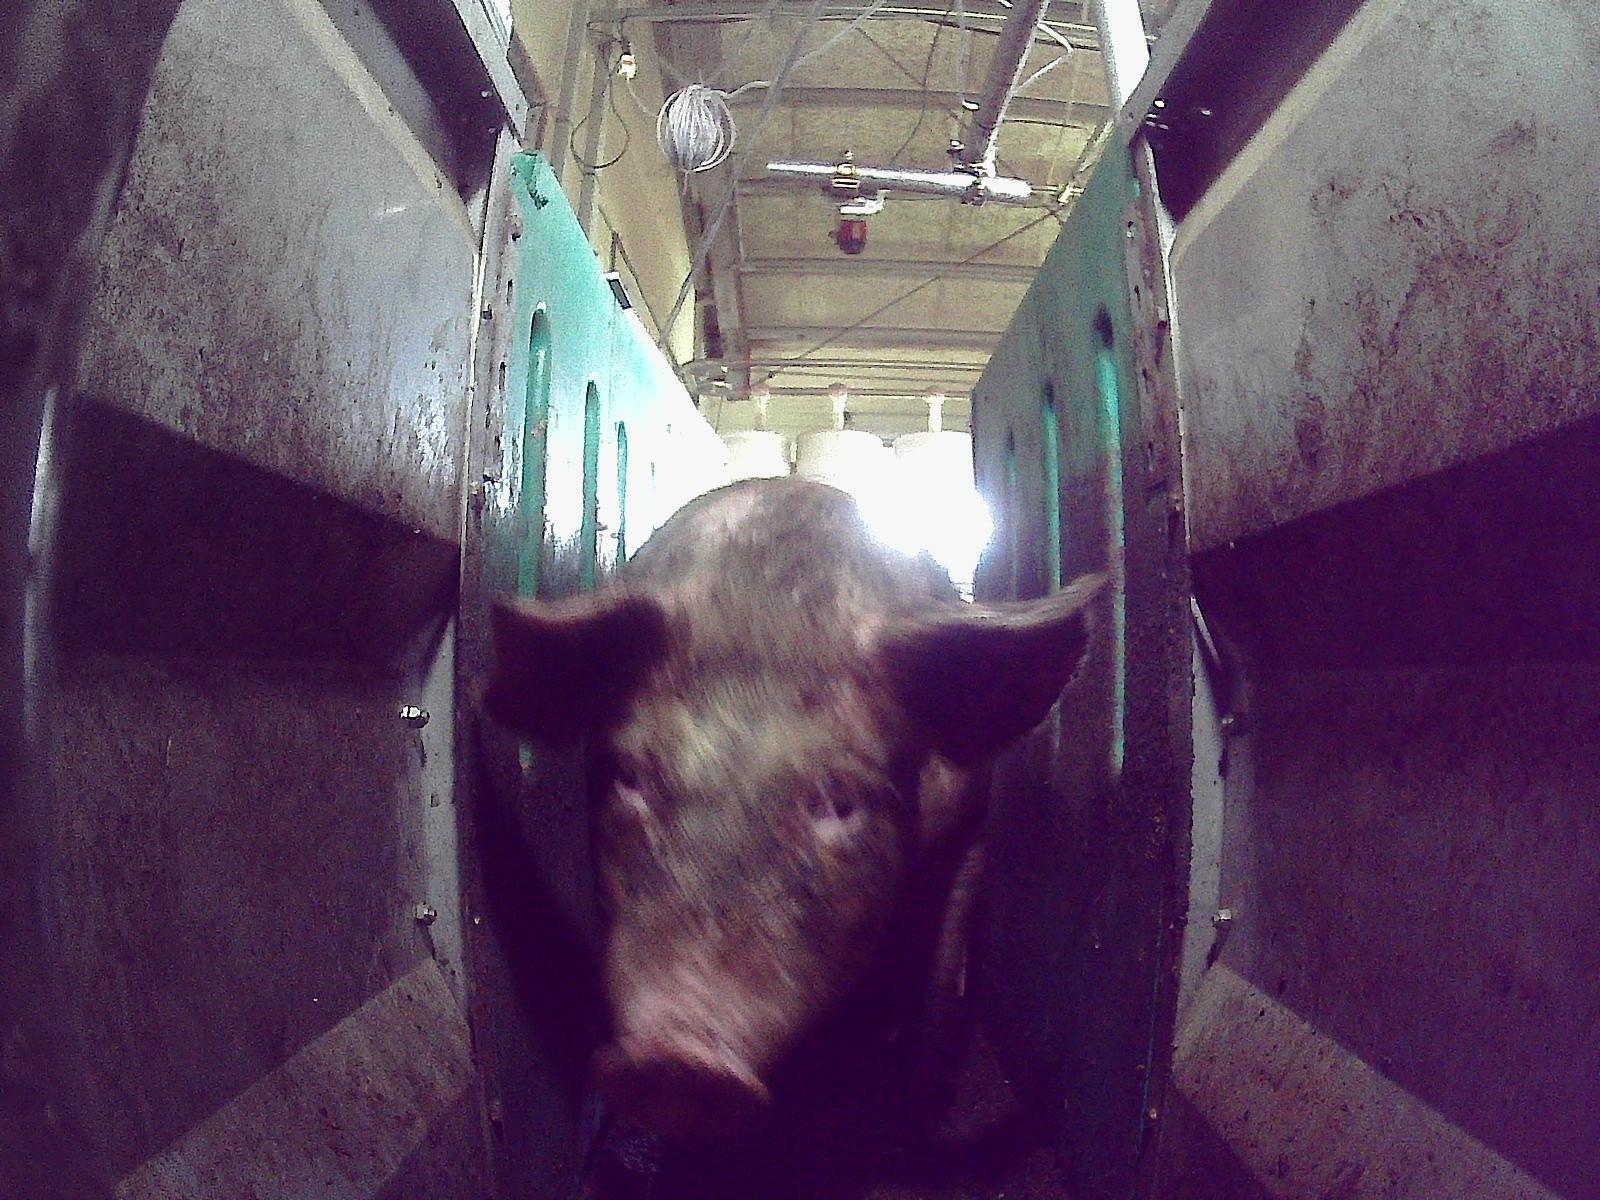Face: (590, 612, 895, 1133)
